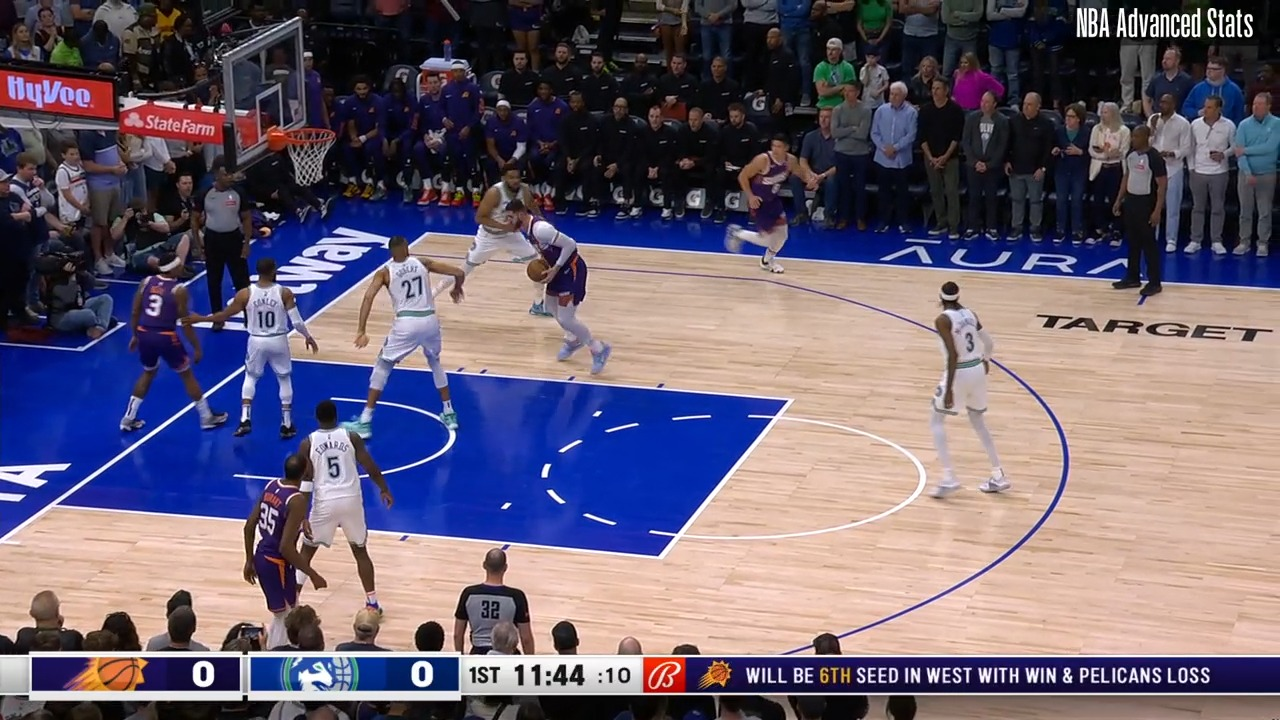basketball: (526, 258, 552, 284)
